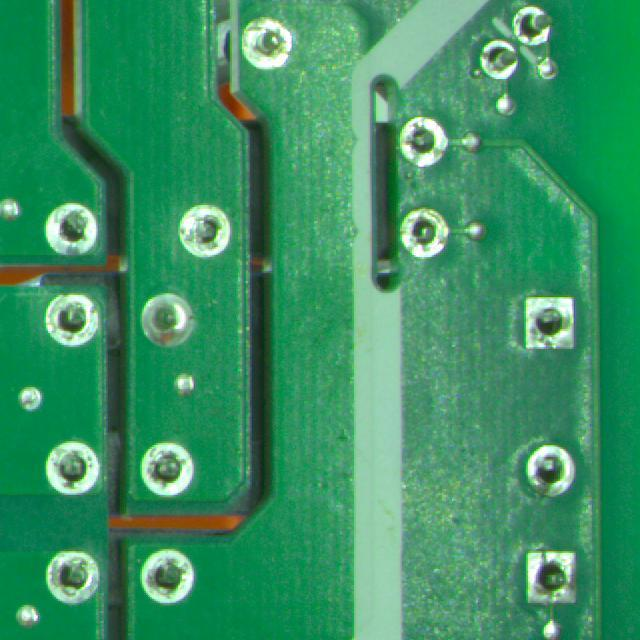low_solder: (141, 549, 195, 604), (46, 441, 100, 494), (46, 551, 99, 604), (141, 442, 192, 496), (179, 205, 231, 257), (46, 295, 98, 346), (528, 550, 576, 604), (526, 445, 575, 497), (400, 116, 449, 168), (46, 204, 96, 254), (526, 298, 575, 348), (401, 208, 450, 258), (514, 6, 551, 46), (481, 40, 517, 79), (460, 134, 480, 151)
